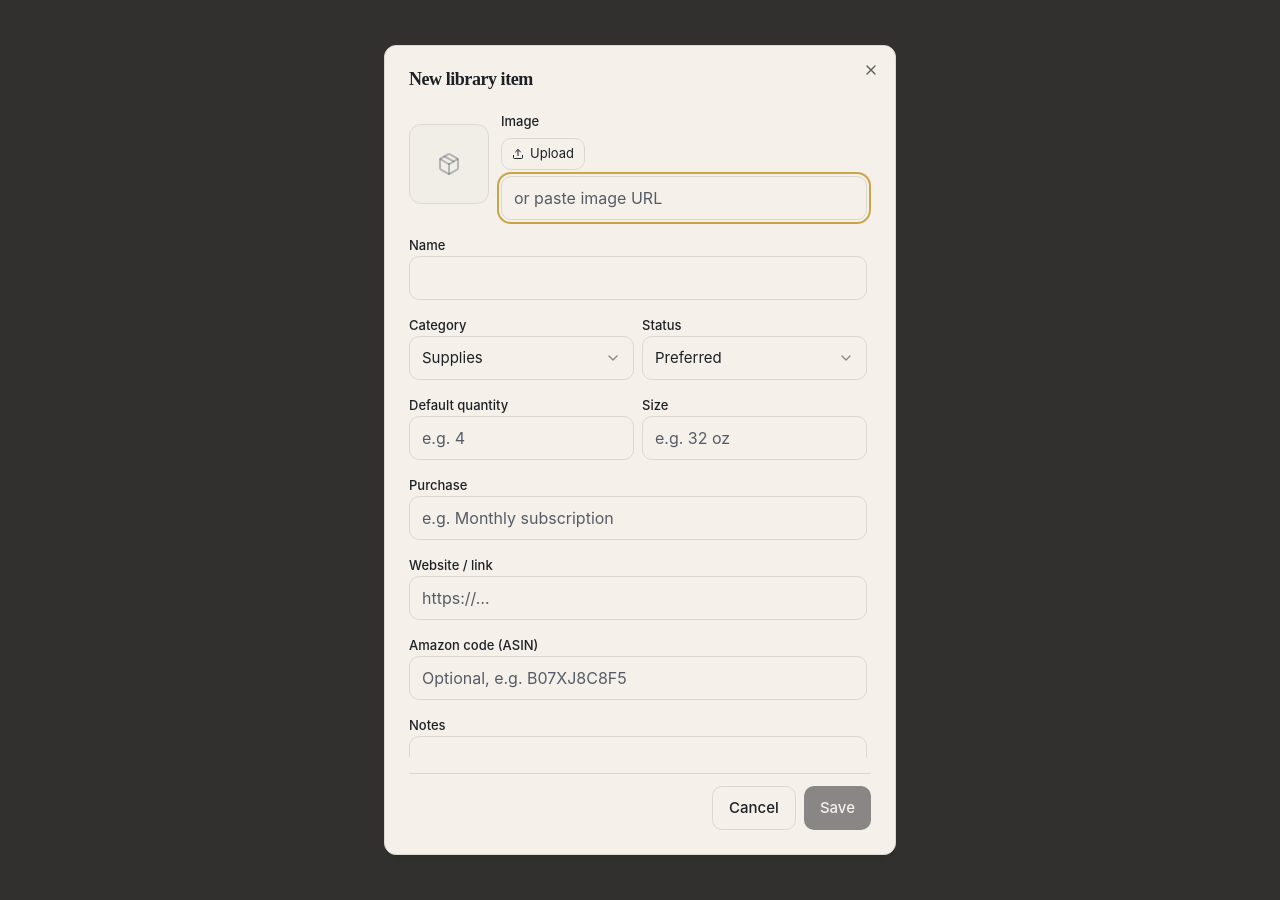
Test case: library editor Amazon code › fills from a pasted Amazon link, and validates hand edits
Type "https://www.amazon.com/x/dp/B07XJ8C8F5?ref=a" into the field with placeholder "https://…" at {"x": 638, "y": 598}, box [409,576,867,620]
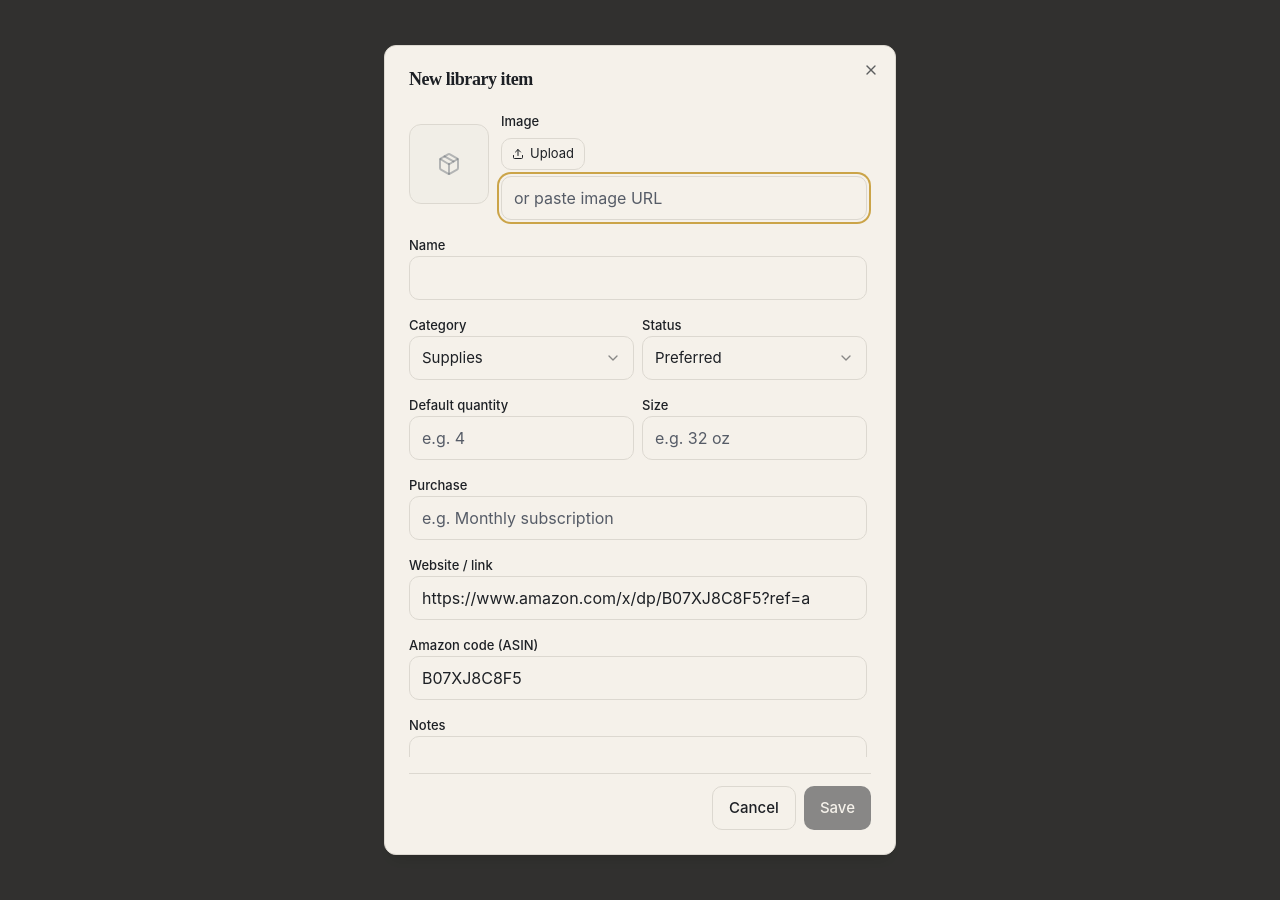
Result: the field labelled "Amazon code (ASIN)" holds "B07XJ8C8F5"
Replace the text in the field labelled "Amazon code (ASIN)" with "abc" at {"x": 638, "y": 678}, box [409,656,867,700]
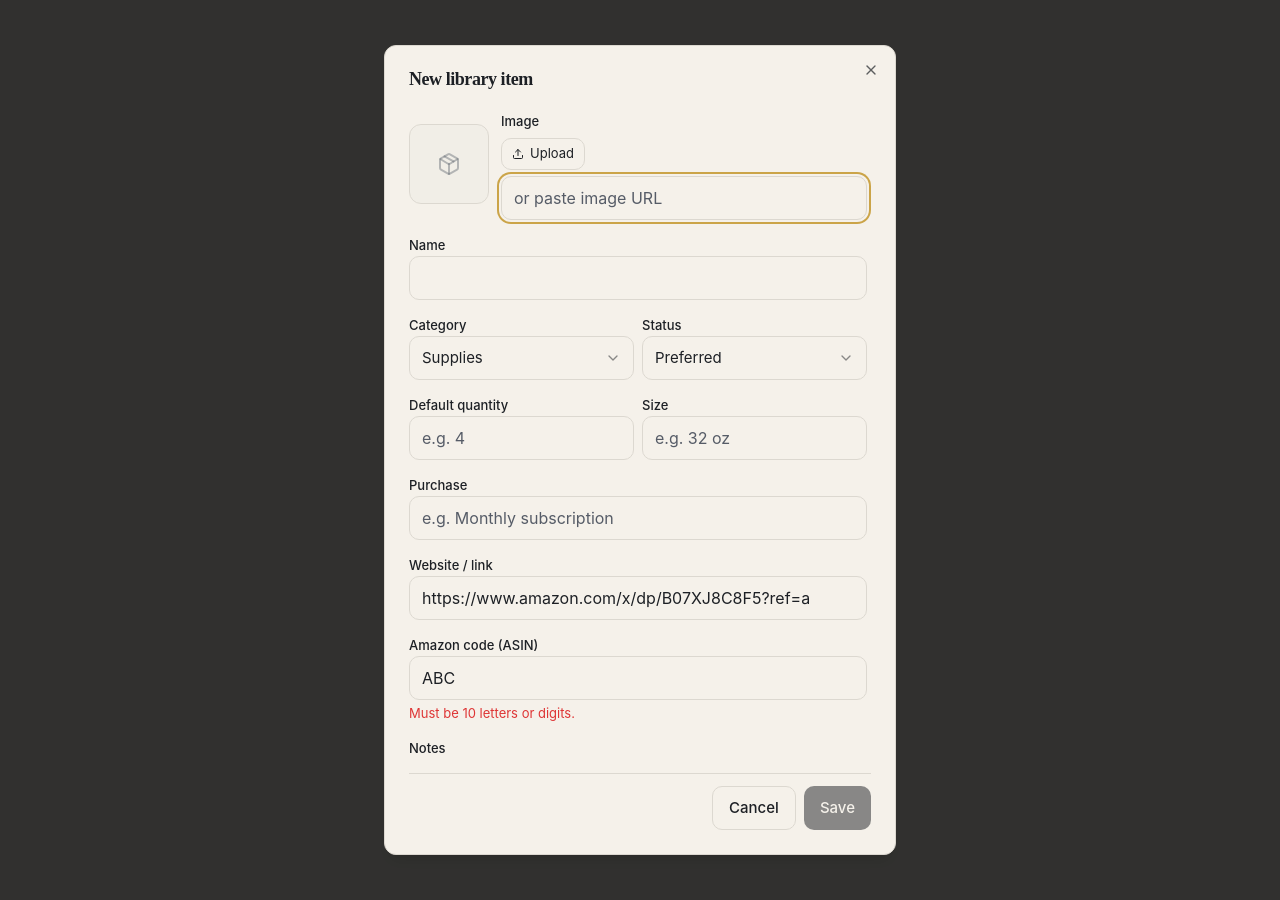
Result: the text "Must be 10 letters or digits." is shown at [409,705,575,721]
